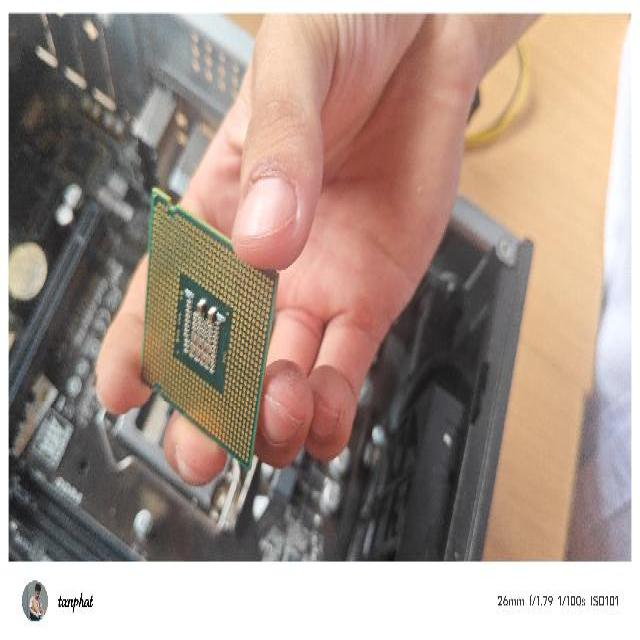CPU: (139, 179, 280, 472)
